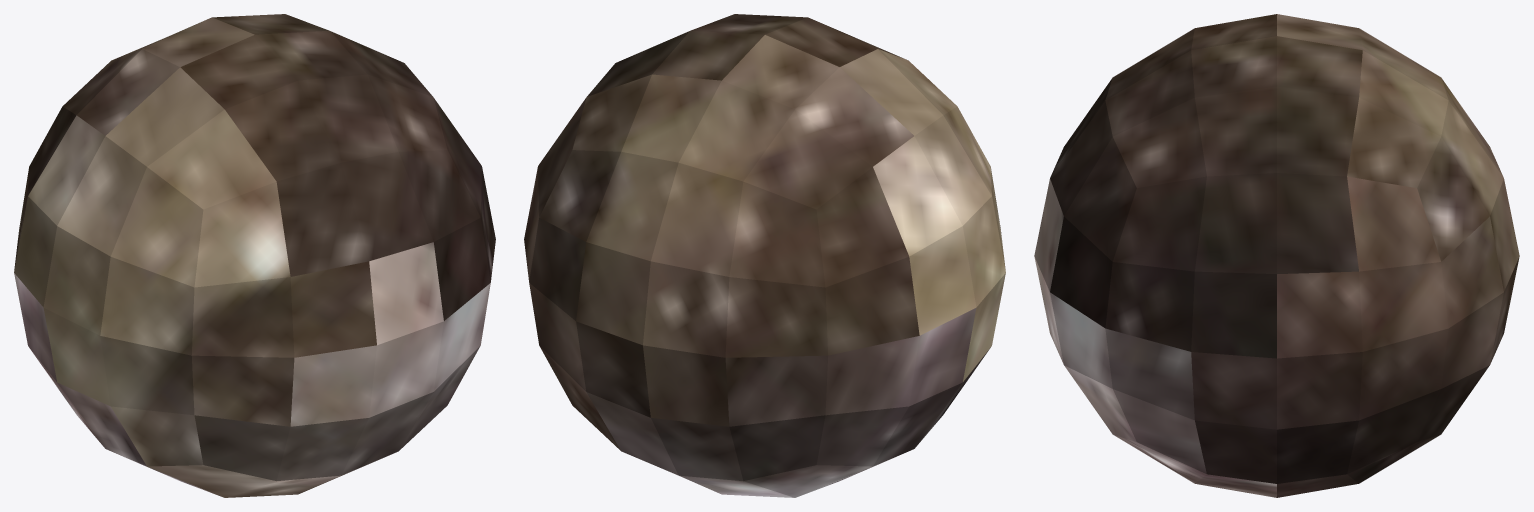
File: ganymede.glb
3 renders of one model, left to right at view 1: azimuth 30°, elevation 25°; view 2: azimuth 150°, elevation 25°; view 3: azimuth 270°, elevation 25°, orthographic.
Parts seen in each view (by area): view 1: Roundcube; view 2: Roundcube; view 3: Roundcube.
Part boxes in pixels (left/top/right/bottom): Roundcube: left=14, top=14, right=495, bottom=497; Roundcube: left=524, top=14, right=1005, bottom=497; Roundcube: left=1034, top=14, right=1519, bottom=497.
Bounding box in the file's own units: 1.2 × 1.2 × 1.2.
1 material, 1 textured.
